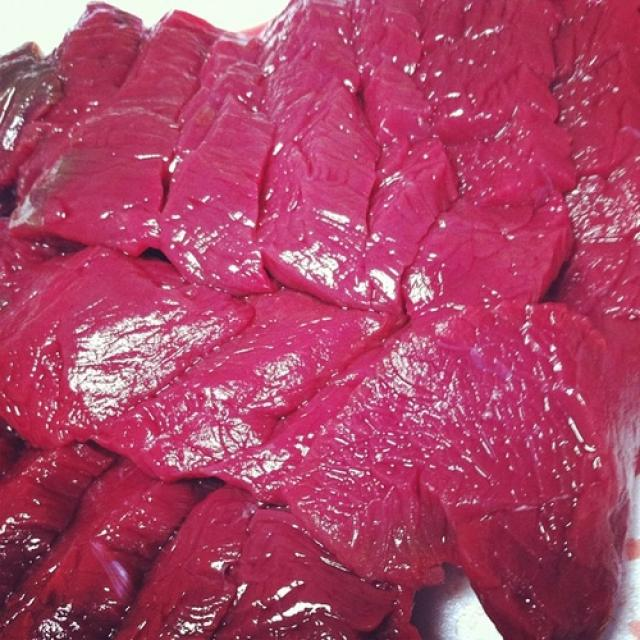刺身生食: (8, 8, 635, 626)
